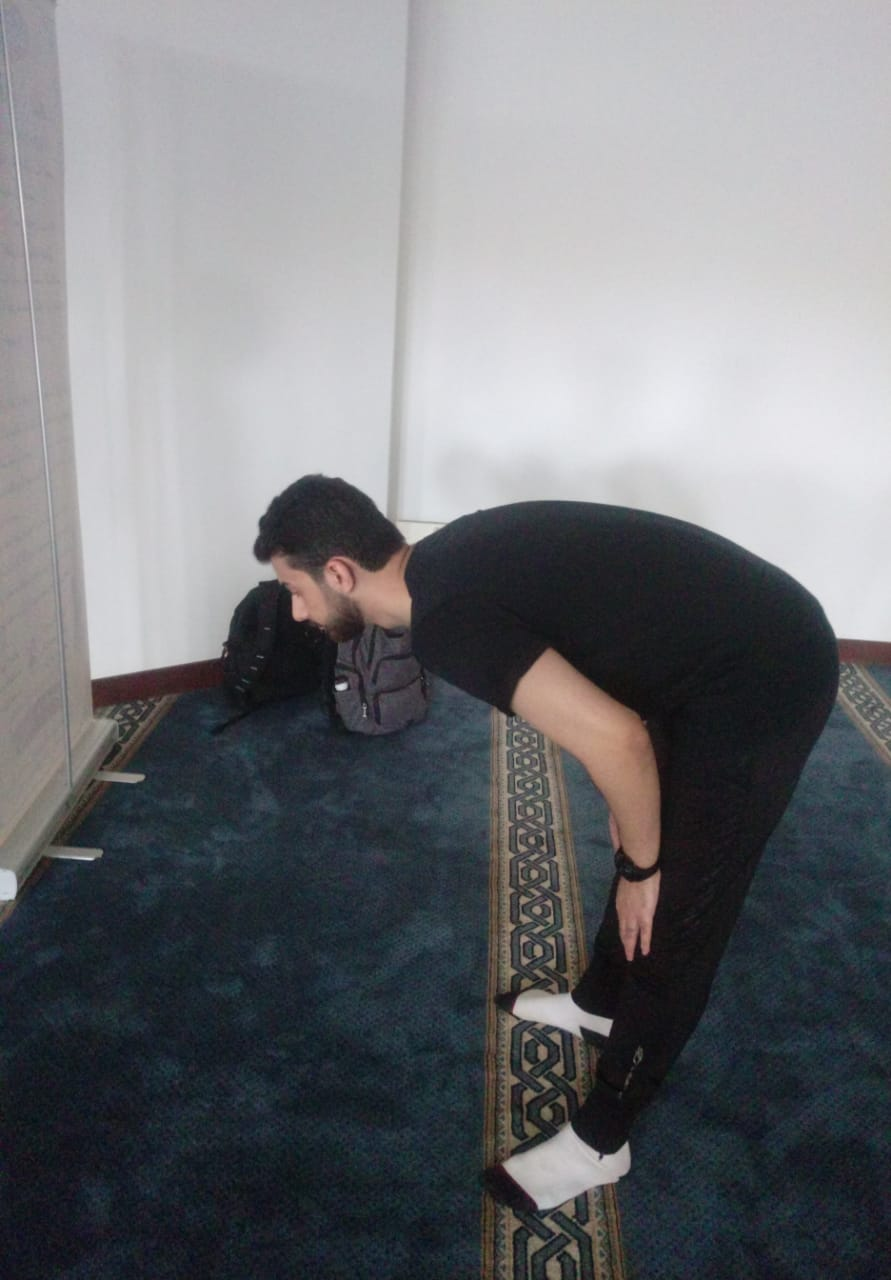ruku: (198, 409, 891, 1234)
